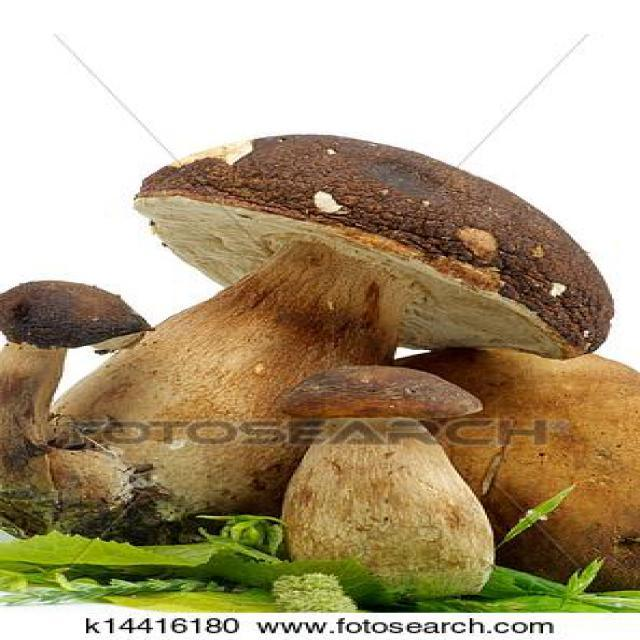Boletus: (61, 128, 612, 507), (268, 365, 506, 597), (0, 278, 156, 451)
